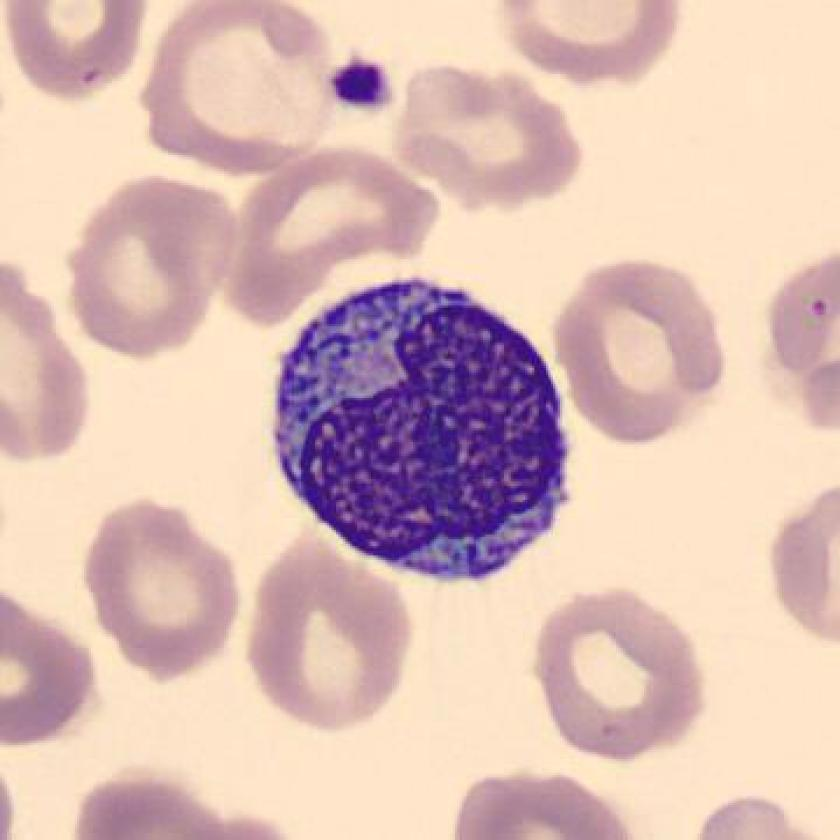monocyte: (258, 253, 587, 598)
